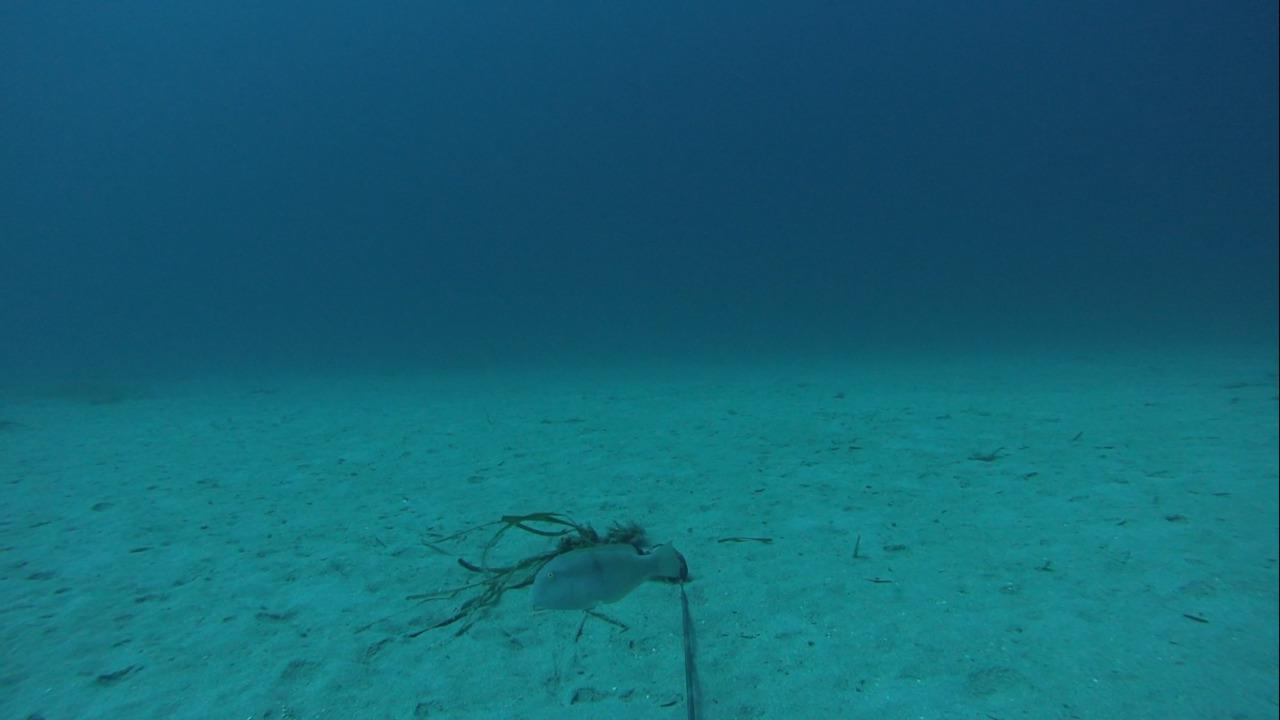raor: (529, 537, 681, 611)
